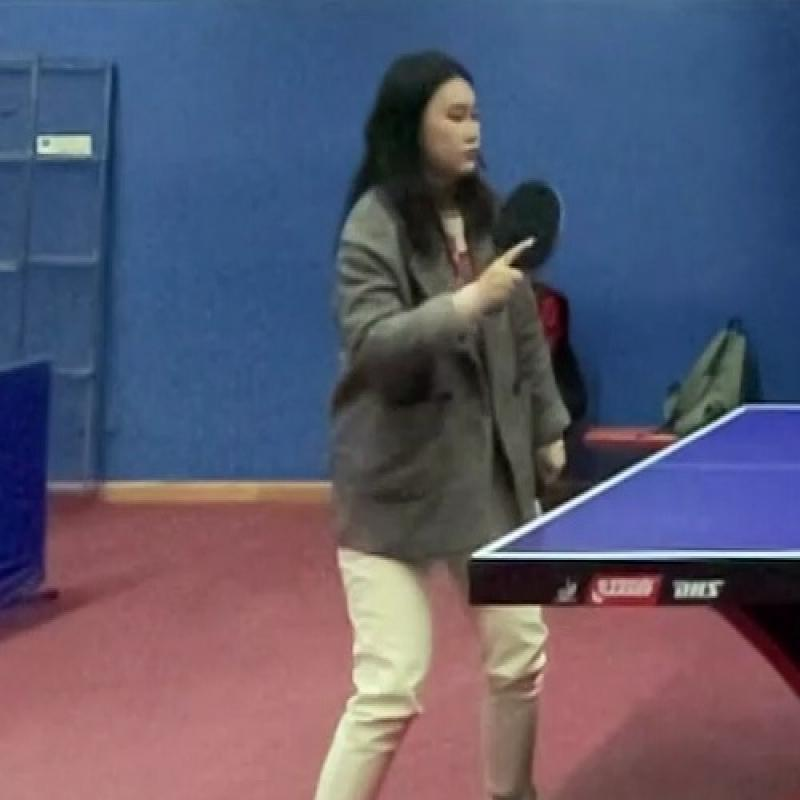bats: (480, 176, 572, 287)
